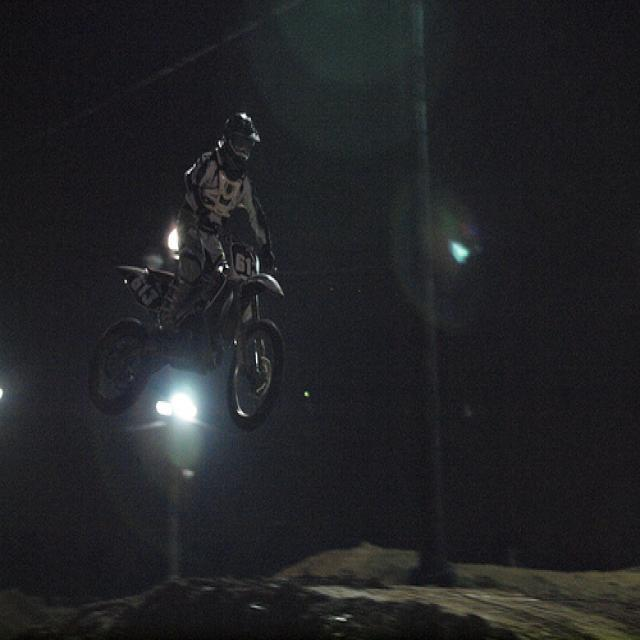Motorbike: (69, 248, 300, 450)
People: (153, 97, 274, 306)
